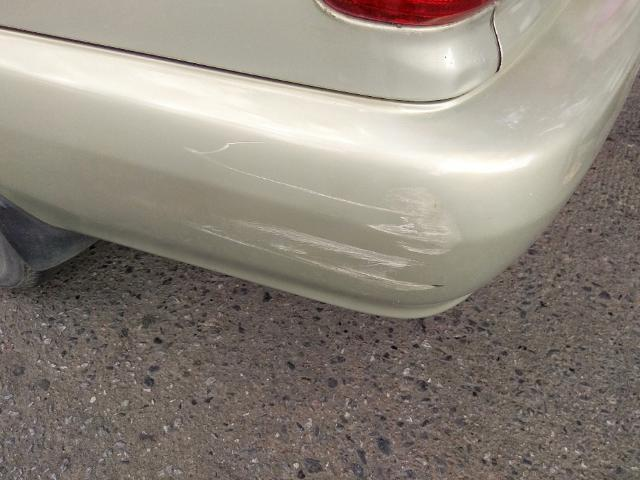Bumper: (162, 104, 468, 314)
